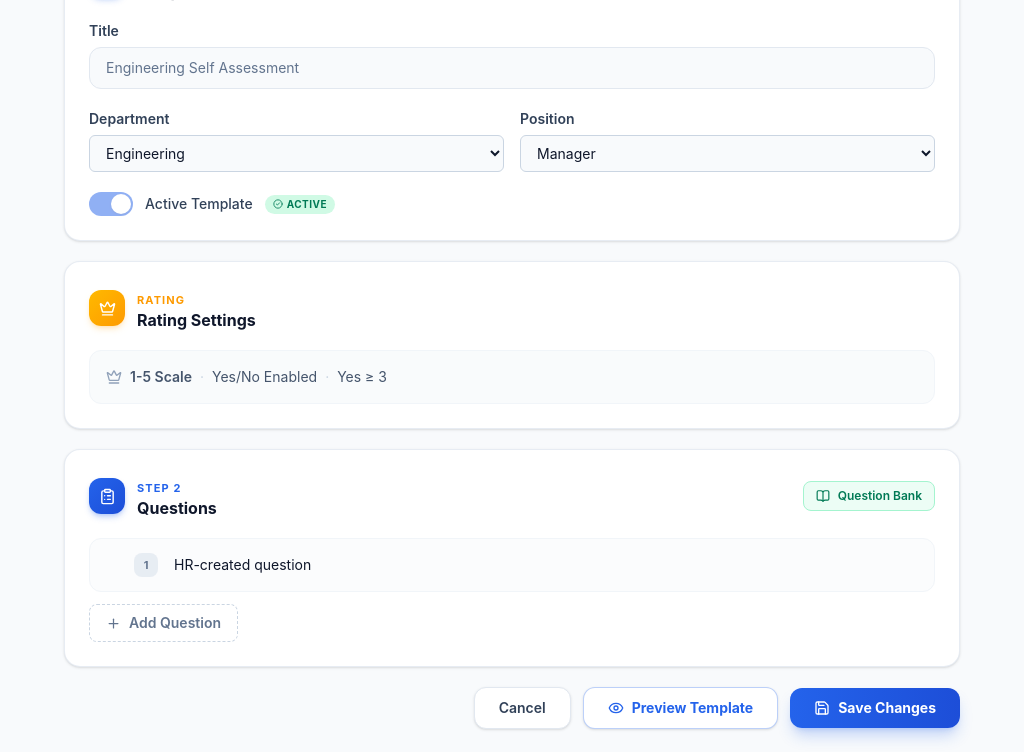
Scenario: EditSelfAssessmentTemplatePage manager question permissions › previews unsaved manager-added questions without saving
(page scrolled)
Click the button "Add Question": coordinates (164, 623) [89,604,238,642]
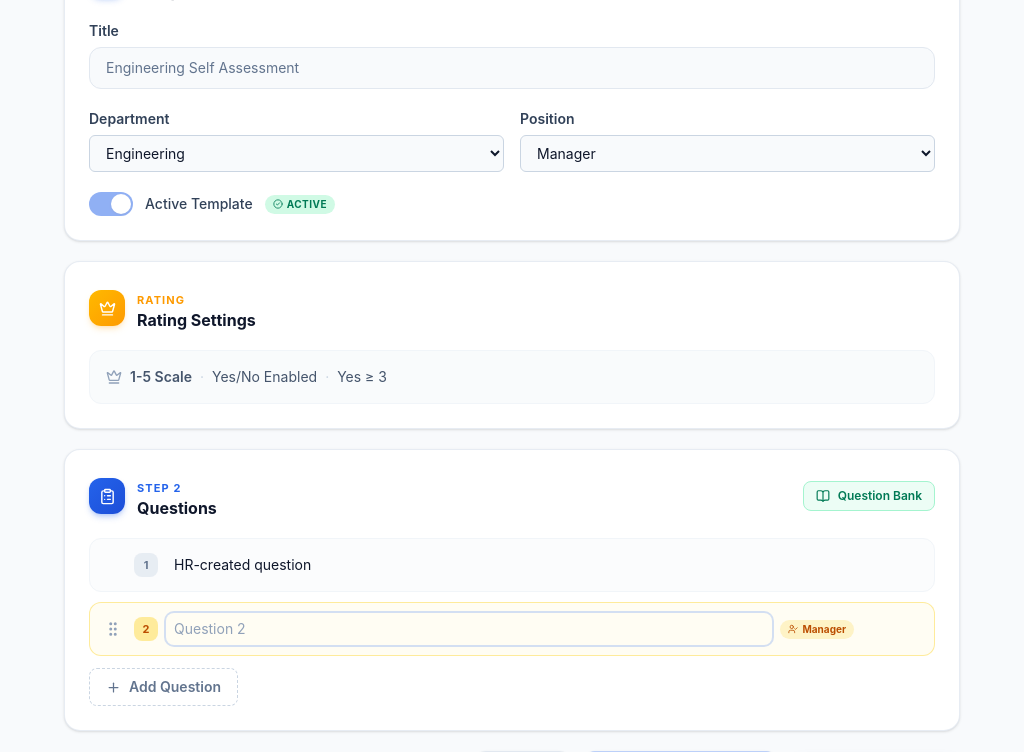
In the field with placeholder "Question 2": coordinates (469, 629) [166,613,772,645], type "Manager unsaved preview question"
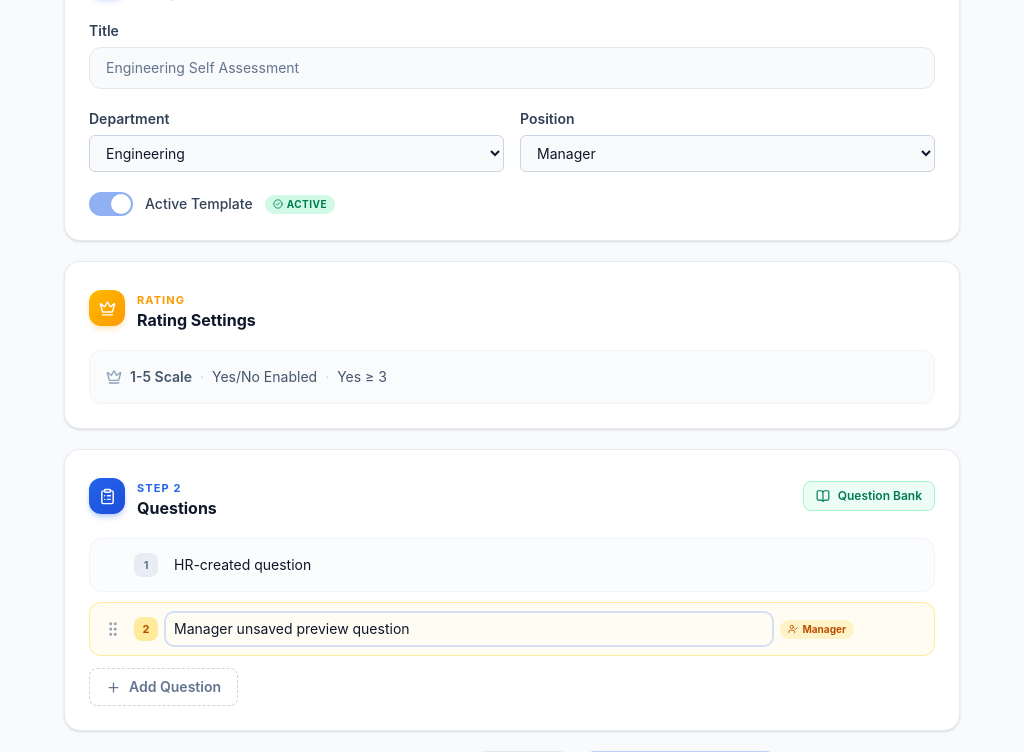
Click the button "Add Question": coordinates (164, 687) [89,668,238,706]
(page scrolled)
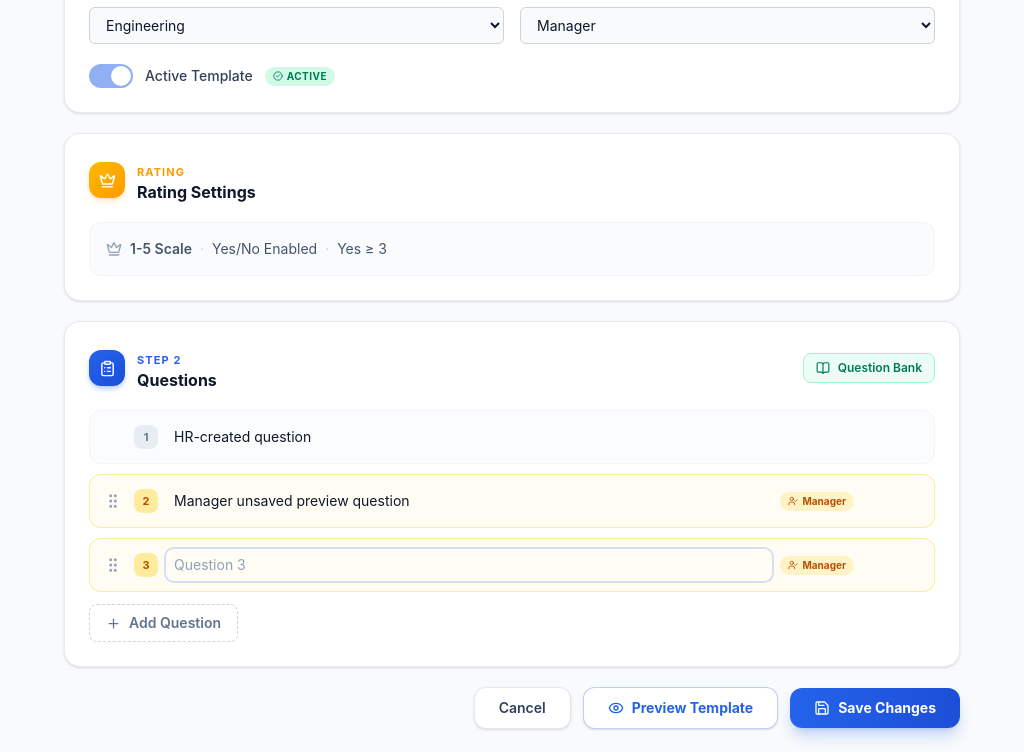
Click the button "Preview Template": coordinates (680, 708) [583,687,778,729]
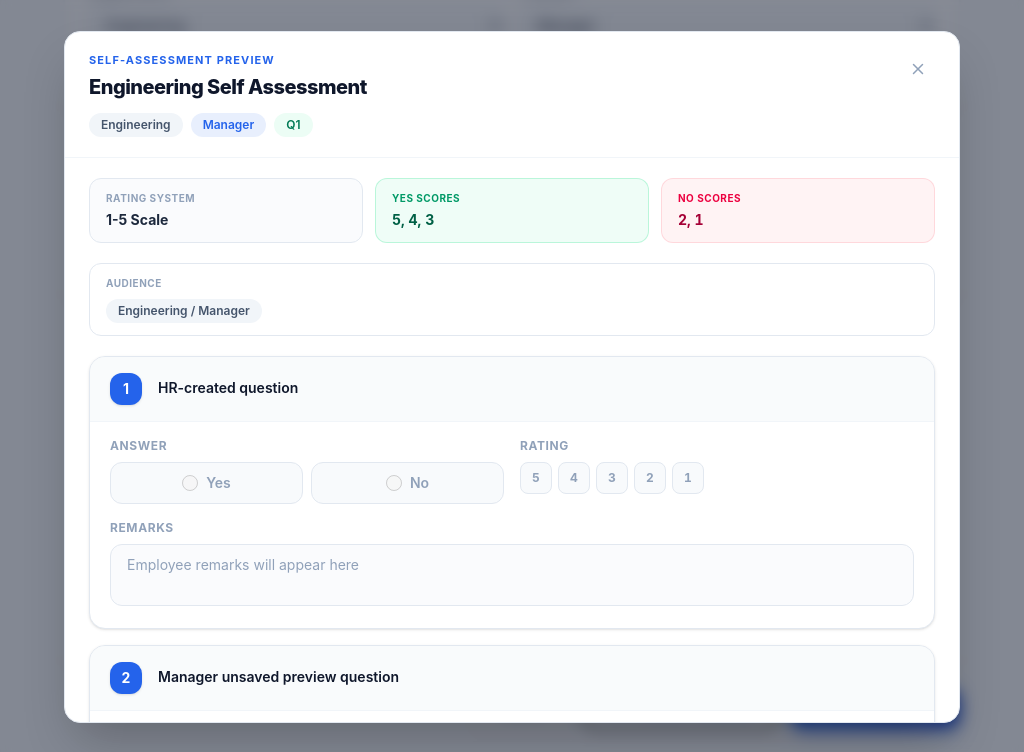
Now the dialog "Engineering Self Assessment" shows "Manager unsaved preview question", box [158,668,399,685]
